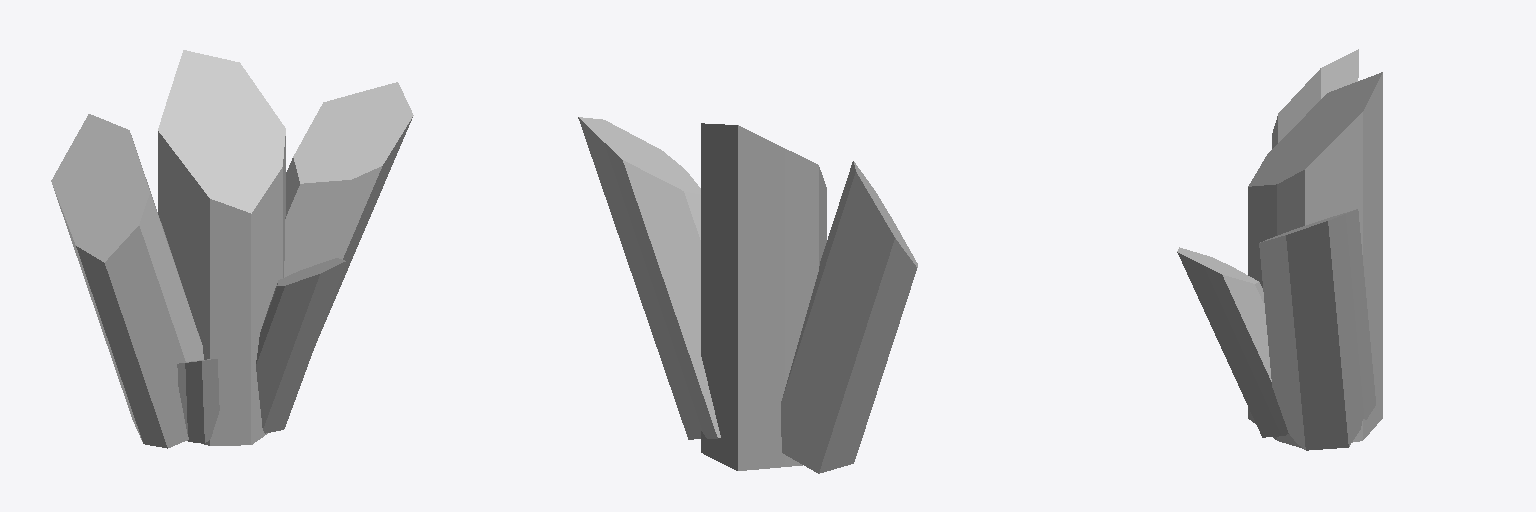
Rendered from mineral1.obj.
The picture shows the model from 3 angles: view 1: azimuth 30°, elevation 25°; view 2: azimuth 150°, elevation 25°; view 3: azimuth 270°, elevation 25°; orthographic projection.
Visible parts, largest first — view 1: pCylinder9; view 2: pCylinder9; view 3: pCylinder9.
Part boxes in pixels (bbox=[...]): pCylinder9: bbox=[51, 50, 413, 448]; pCylinder9: bbox=[578, 117, 917, 473]; pCylinder9: bbox=[1177, 49, 1382, 450].
Bounding box in the file's own units: 2.45 × 2.45 × 1.32.